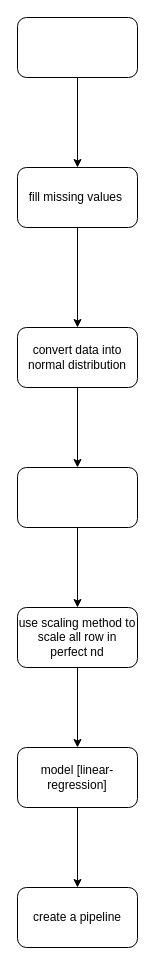
Some shapes in this 155 by 965 pixel diagram are drawn without their labels. The centre of each missing label's shape, as x and y in pixels:
fix categorical data use encoding {onehotencoding}: pixel 77 497
Pipeline Flow: pixel 77 47
